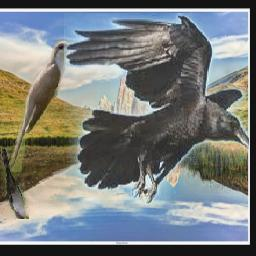Crow: (65, 13, 250, 203)
Cuckoo: (8, 41, 77, 173), (1, 149, 29, 220)
